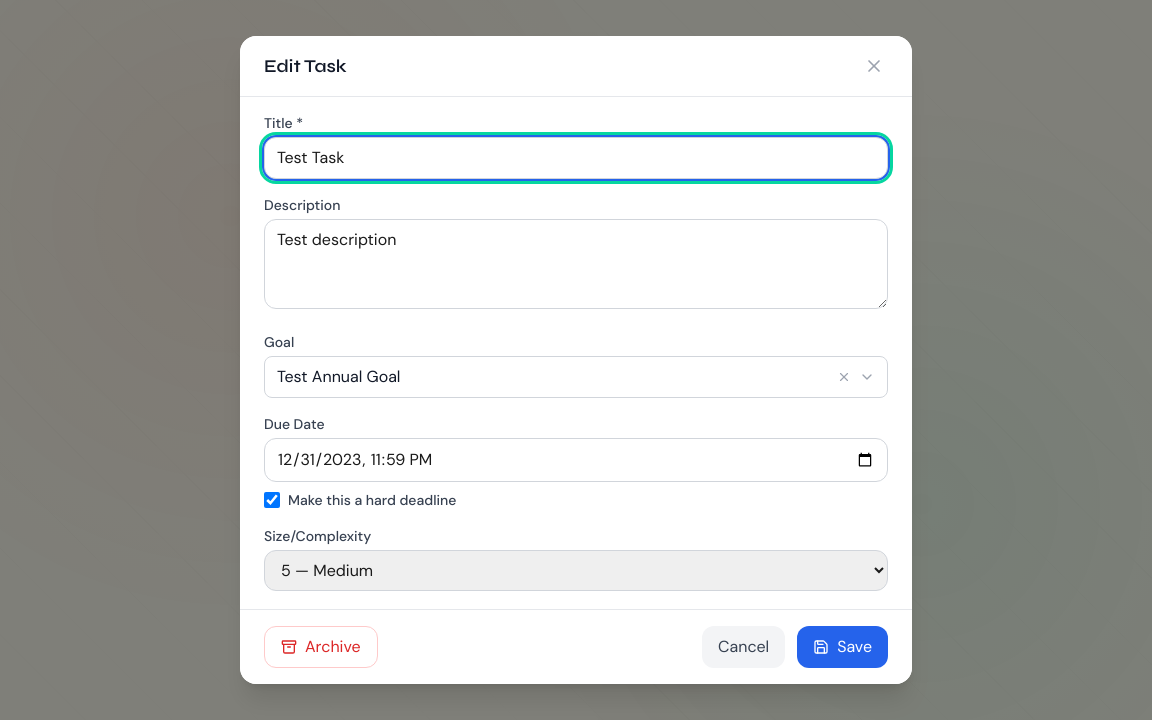
Test: TaskEditDrawer › validates required title field
This screenshot has width=1152, height=720.
Clear the field labelled "Title *". click: (576, 158)
box: [264,137,888,179]
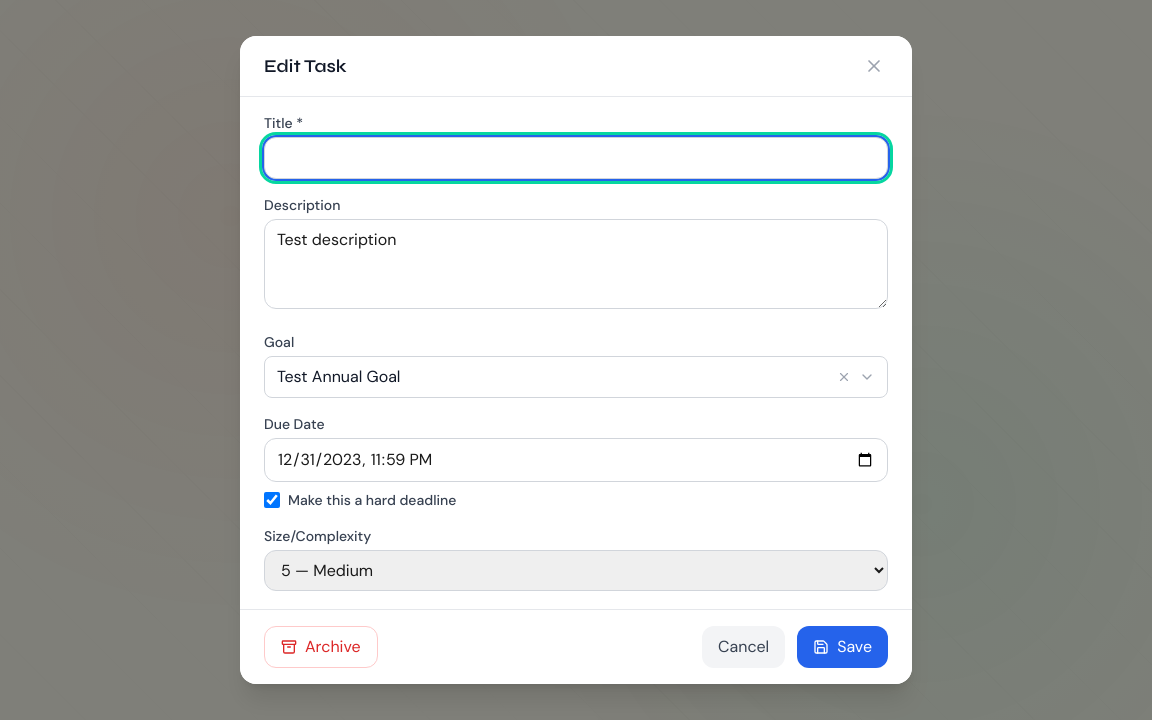
Click the button "Save". click: (843, 647)
box: [797,626,888,668]
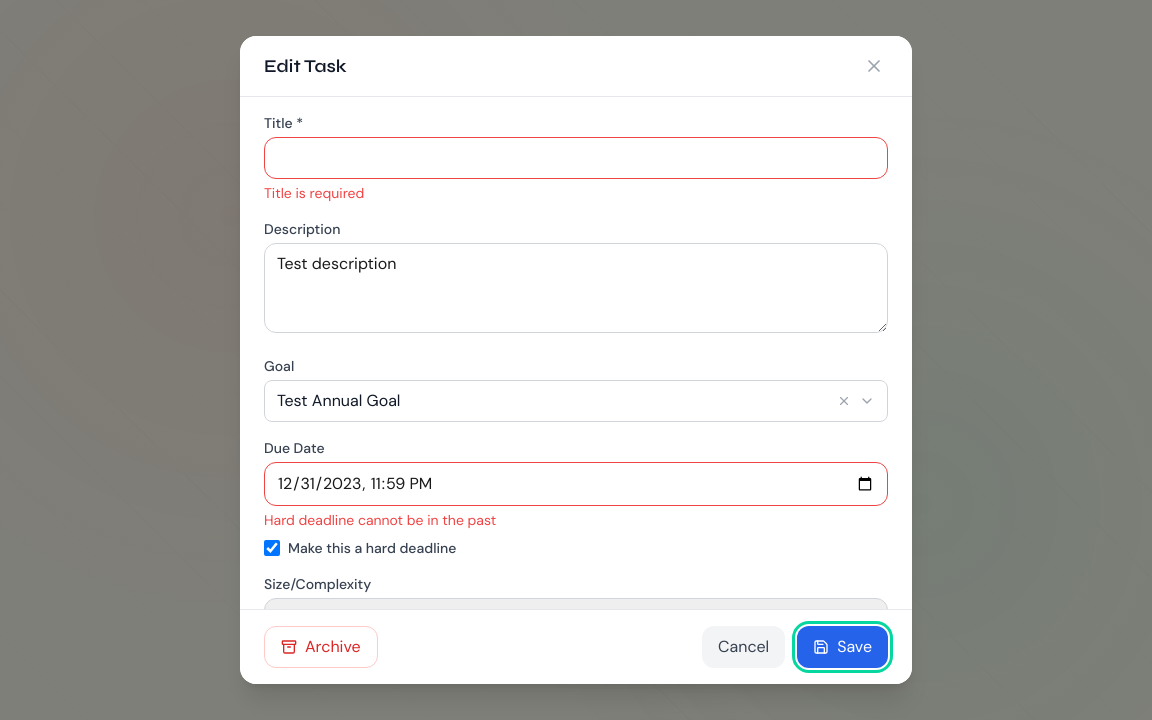
Result: the text "Title is required" is shown at [264,184,364,202]
